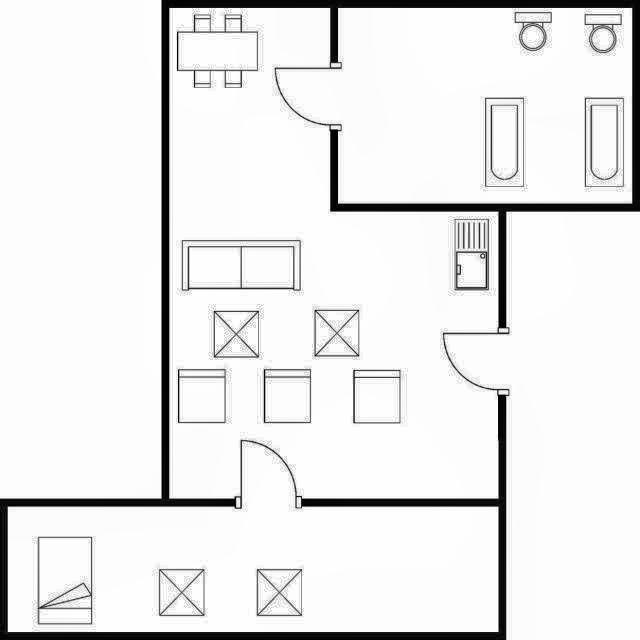room: (169, 8, 499, 499), (8, 507, 499, 632), (338, 8, 632, 204)
